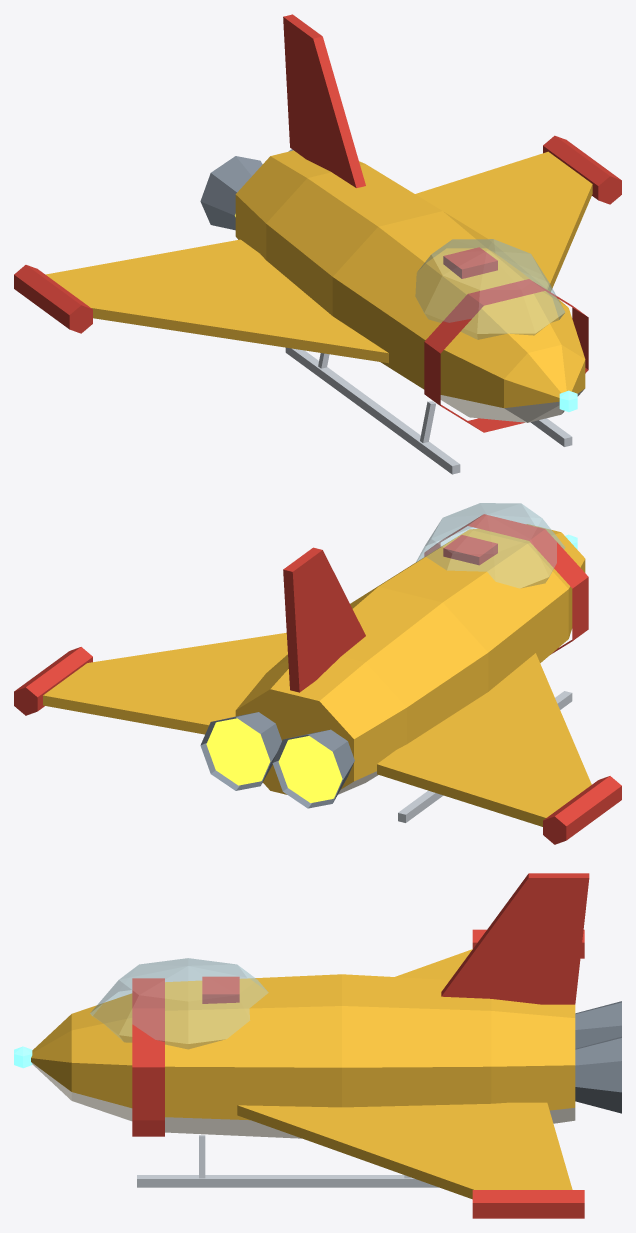
The model's file is Ship_Rocket_Shuttle.fbx.
The picture shows the model from 3 angles, top to bottom: view 1: azimuth 30°, elevation 25°; view 2: azimuth 150°, elevation 25°; view 3: azimuth 270°, elevation 25°; orthographic projection.
Parts seen in each view (by area): view 1: Ship_Rocket_Shuttle_Body, Ship_Rocket_Shuttle_Wing_L, Ship_Rocket_Shuttle_Wing_R, Ship_Rocket_Shuttle_Canopy; view 2: Ship_Rocket_Shuttle_Body, Ship_Rocket_Shuttle_Wing_L, Ship_Rocket_Shuttle_Wing_R, Ship_Rocket_Shuttle_Canopy; view 3: Ship_Rocket_Shuttle_Body, Ship_Rocket_Shuttle_Wing_R, Ship_Rocket_Shuttle_Canopy, Ship_Rocket_Shuttle_Wing_L.
Part boxes in pixels (x1,y1,x2,y2): Ship_Rocket_Shuttle_Body: (200, 14, 588, 474); Ship_Rocket_Shuttle_Wing_L: (14, 239, 388, 363); Ship_Rocket_Shuttle_Wing_R: (415, 135, 621, 291); Ship_Rocket_Shuttle_Canopy: (415, 239, 564, 339); Ship_Rocket_Shuttle_Body: (200, 514, 588, 822); Ship_Rocket_Shuttle_Wing_L: (377, 653, 621, 844); Ship_Rocket_Shuttle_Wing_R: (14, 632, 287, 734); Ship_Rocket_Shuttle_Canopy: (416, 503, 565, 588); Ship_Rocket_Shuttle_Body: (14, 873, 621, 1187); Ship_Rocket_Shuttle_Wing_R: (237, 1102, 584, 1218); Ship_Rocket_Shuttle_Canopy: (90, 958, 268, 1049); Ship_Rocket_Shuttle_Wing_L: (395, 929, 584, 979).
Bounding box in the file's own units: 6.89 × 3.34 × 6.52.
